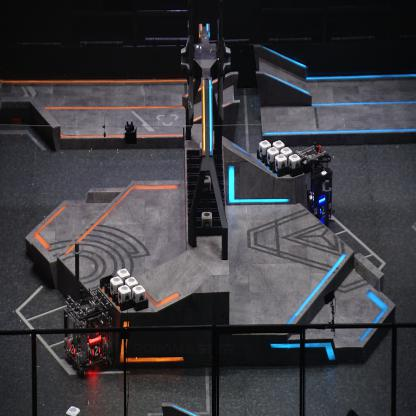car: (65, 283, 115, 375), (294, 143, 334, 223)
